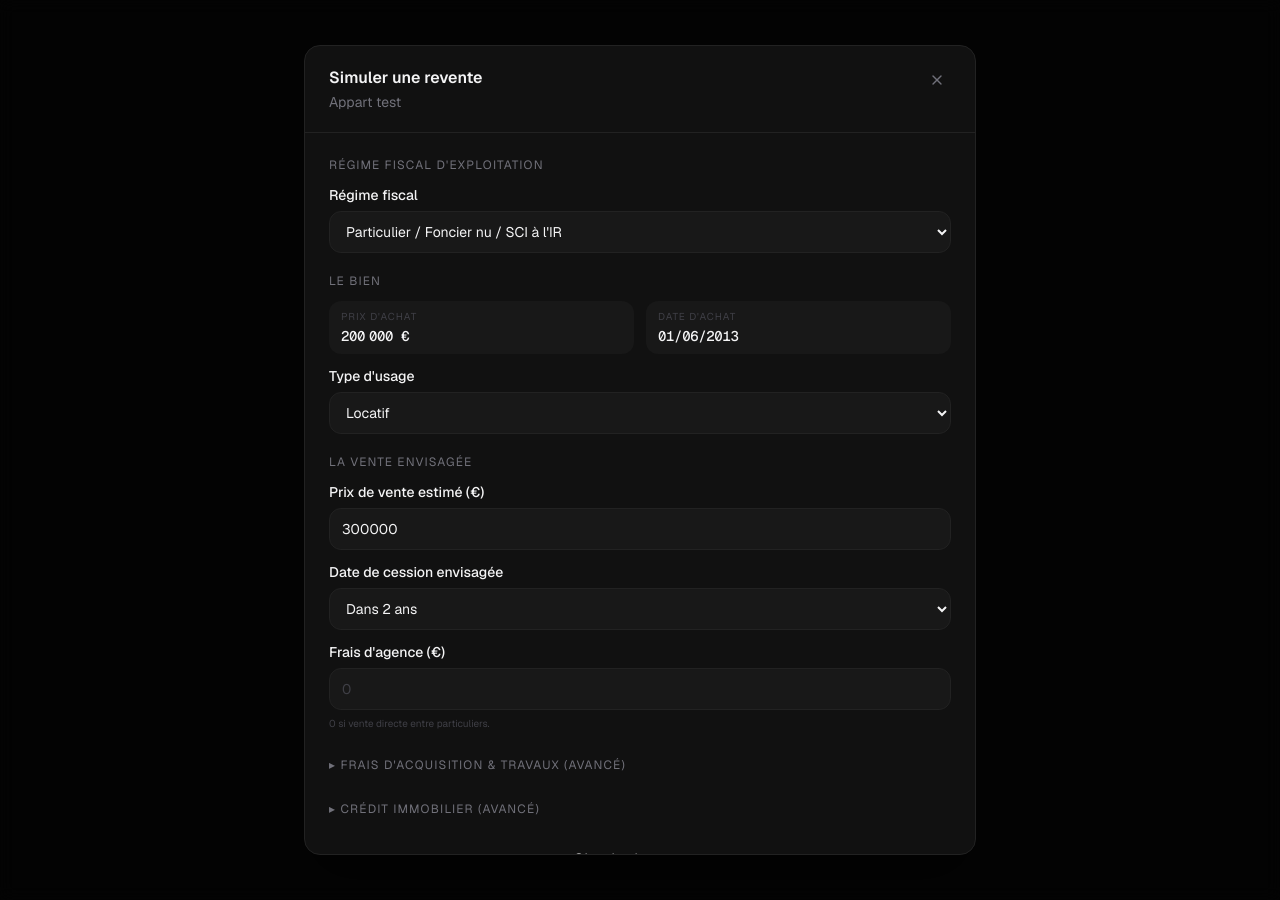
Scenario: <SimulationReventeModal> — affichage résultats par régime › régime lmp → 2 lignes PV court terme / PV long terme
Select "LMP (loueur meublé professionnel)" in the dropdown labelled "Régime fiscal". click: {"x": 640, "y": 232}
box: [329, 211, 951, 253]
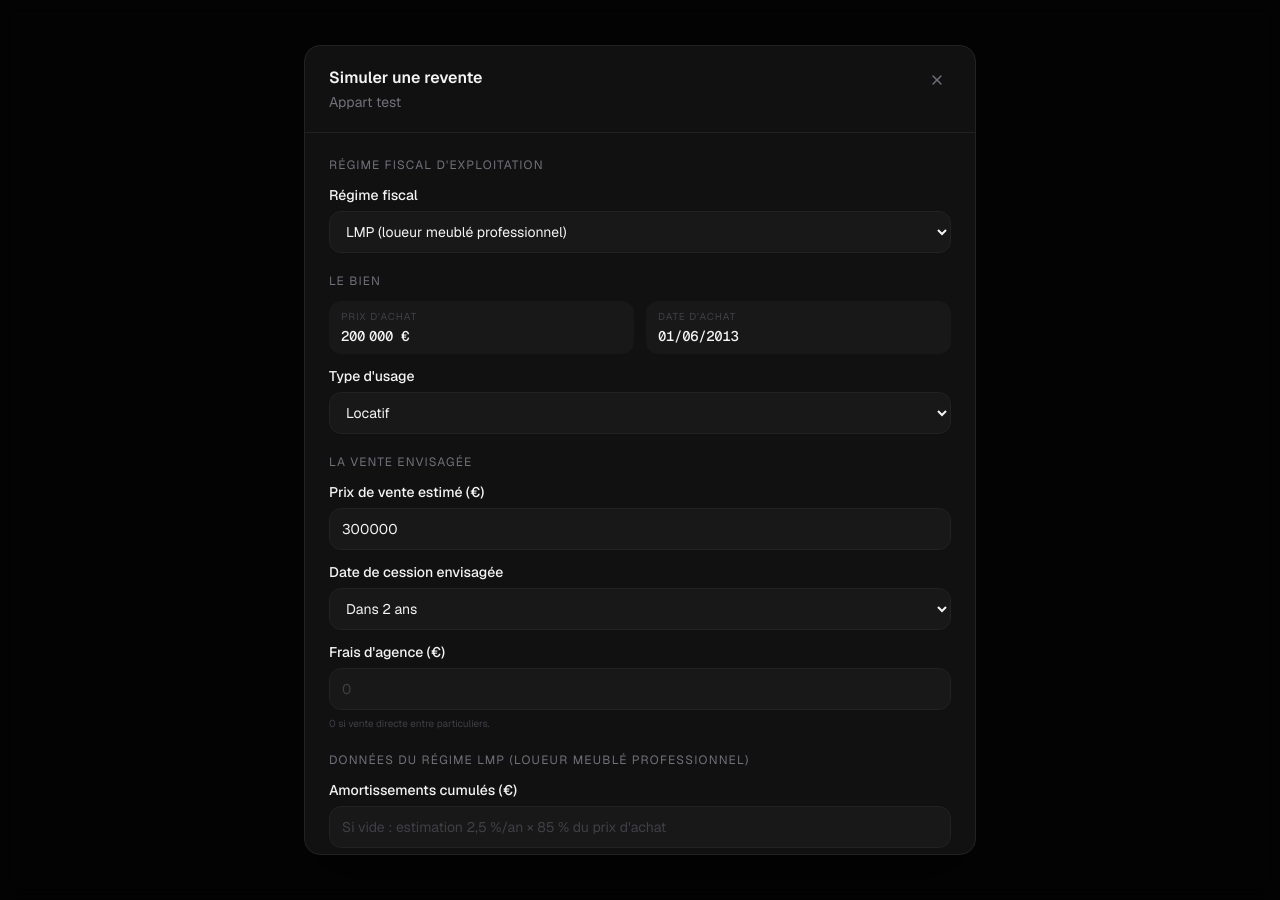
Type "25000" into the number field labelled "Amortissements cumulés (€)". click: {"x": 640, "y": 827}
box: [329, 806, 951, 848]
(page scrolled)
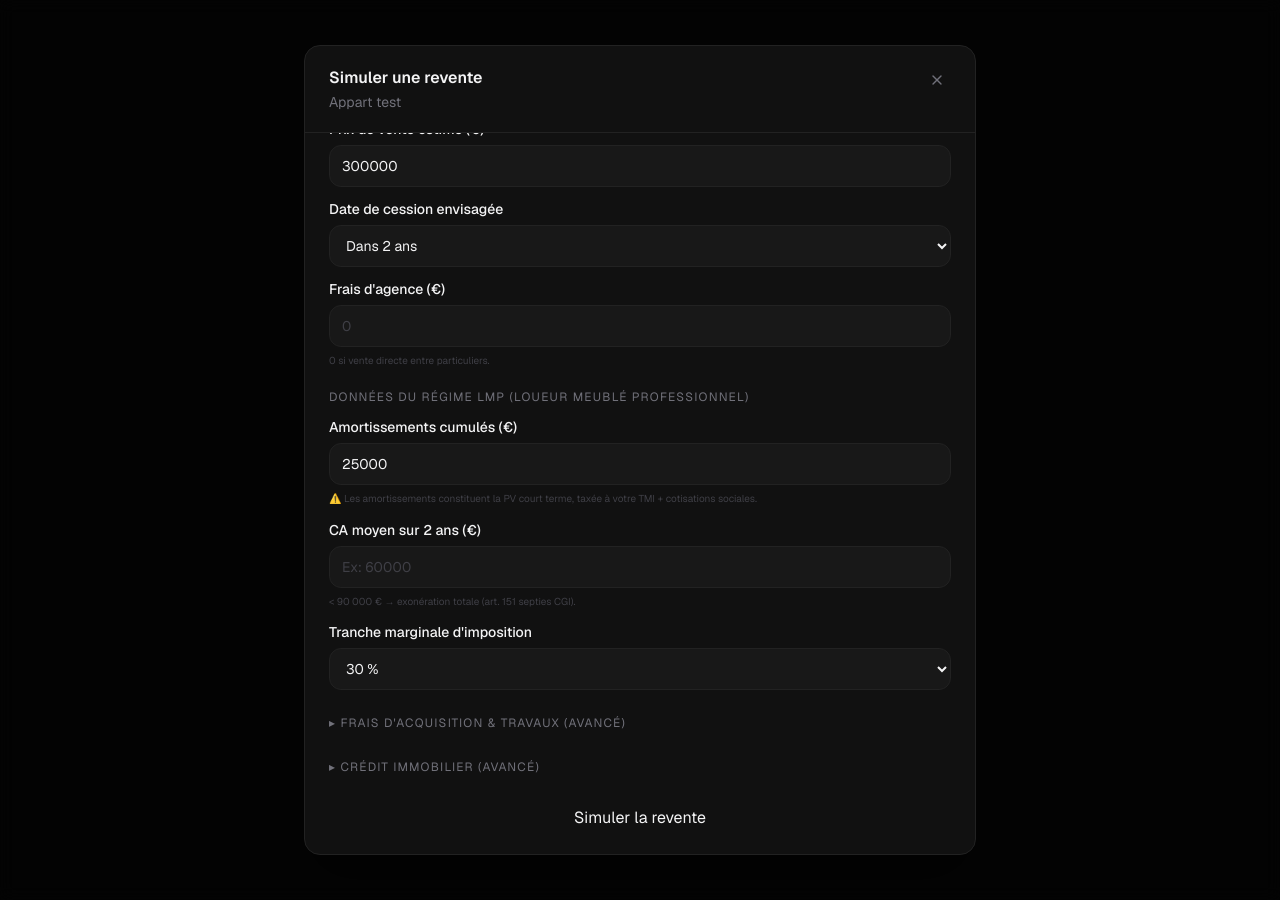
Type "200000" into the number field labelled "CA moyen sur 2 ans (€)". click: {"x": 640, "y": 566}
box: [329, 546, 951, 588]
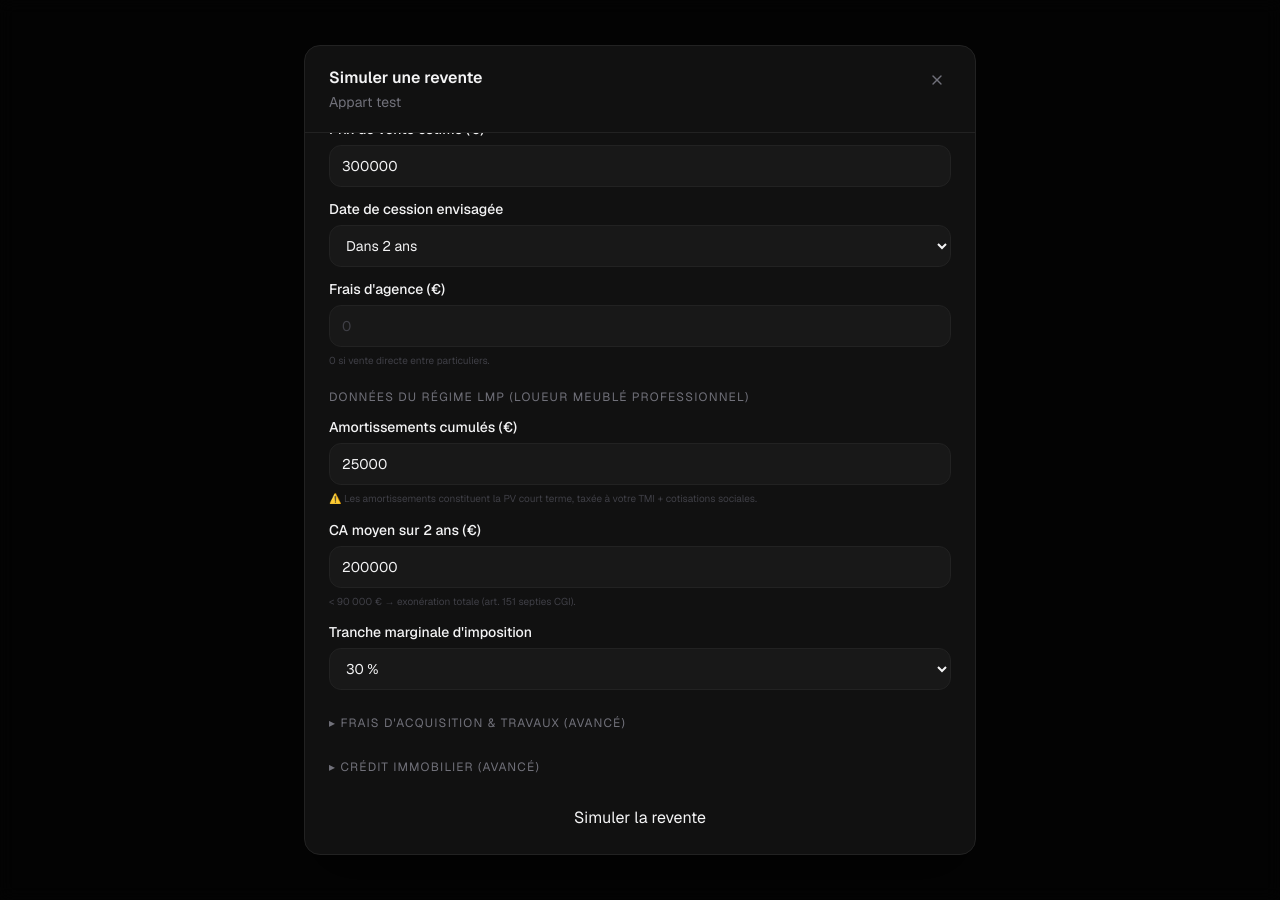
Type "250000" into the number field labelled "Prix de vente estimé (€)". click: {"x": 640, "y": 166}
box: [329, 145, 951, 187]
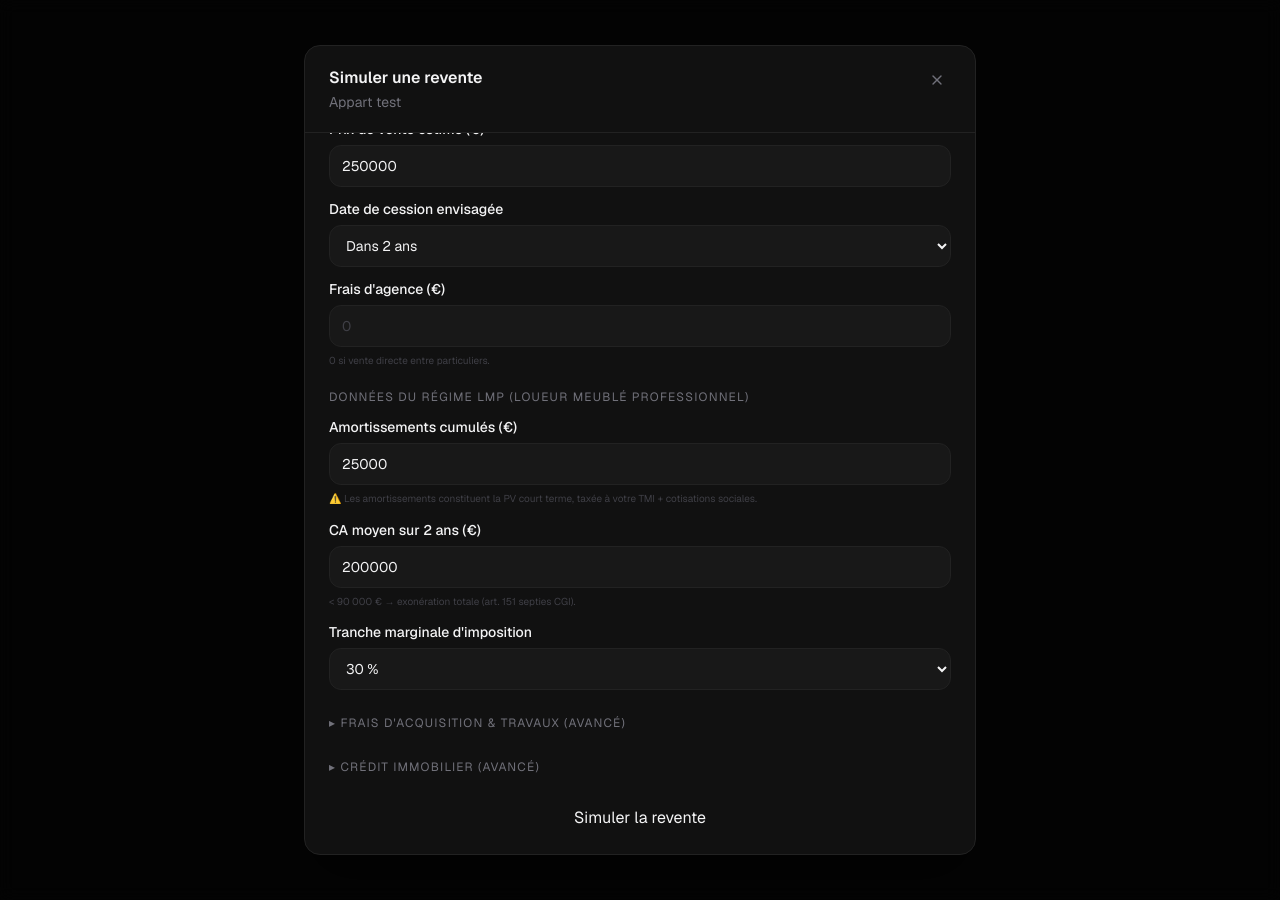
Click the button "Simuler la revente". click: {"x": 640, "y": 818}
box: [329, 806, 951, 830]
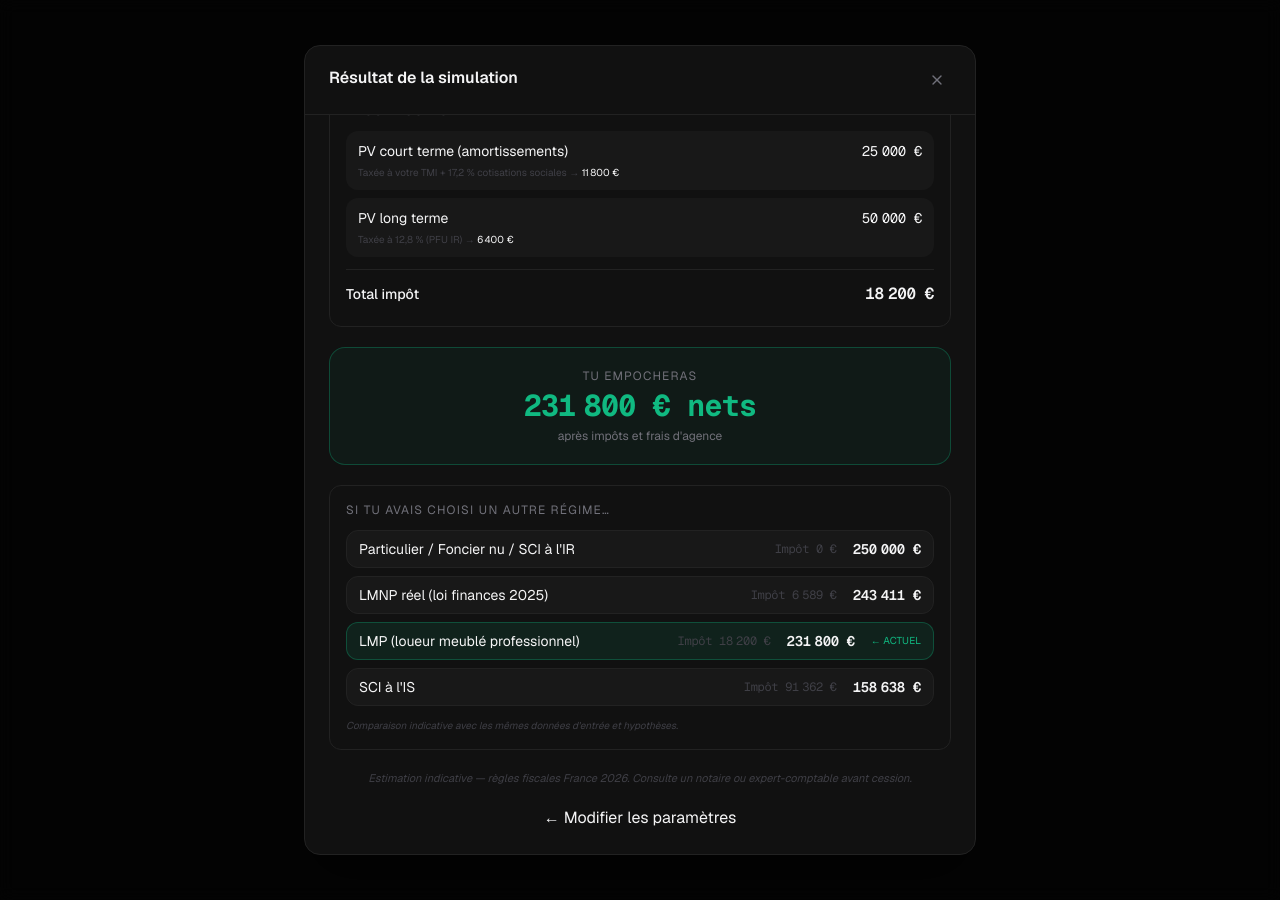
Expected: the text "PV court terme (amortissements)" is shown, [358, 141, 568, 161]
Expected: the text "PV long terme" is shown, [358, 208, 448, 228]
Expected: the text "Taxée à 12,8 % (PFU IR) → 6 400 €" is shown, [358, 233, 514, 246]
